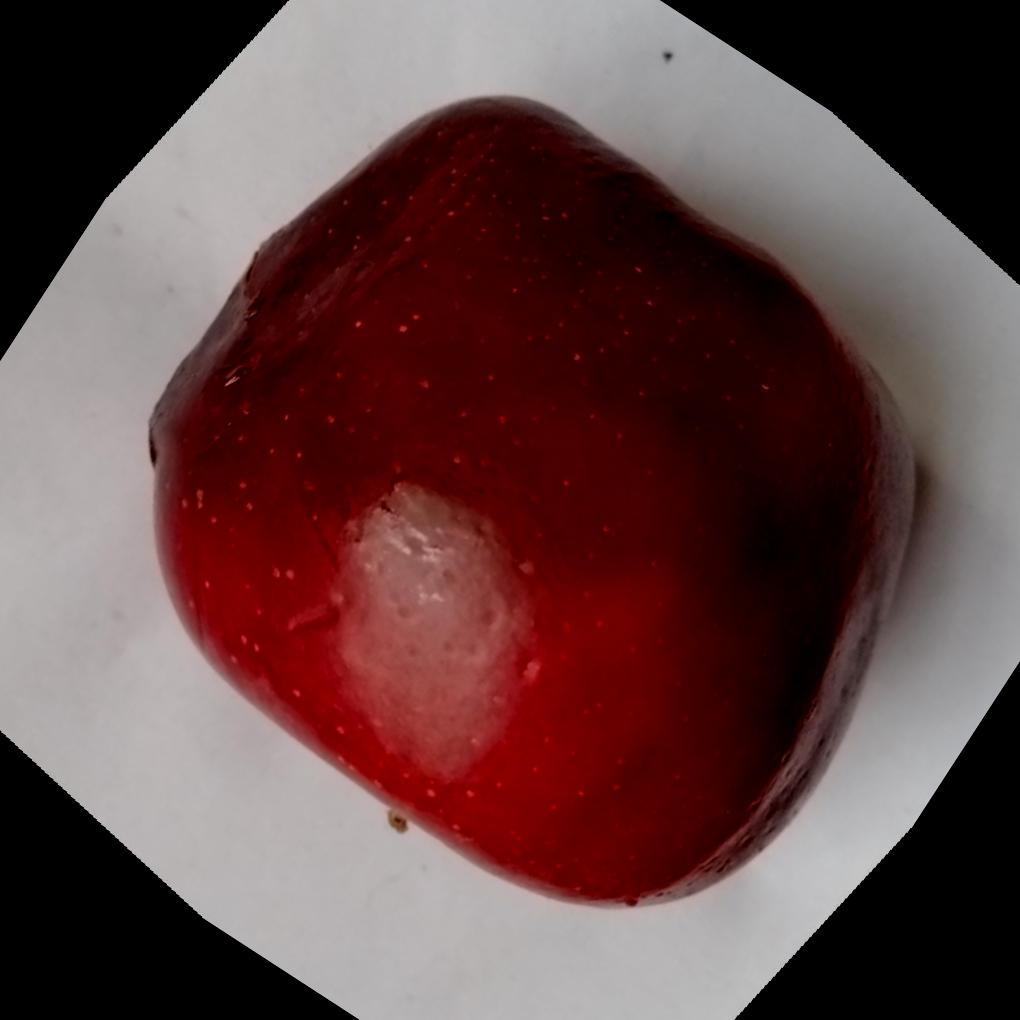FreshOrange: (148, 90, 921, 909)
